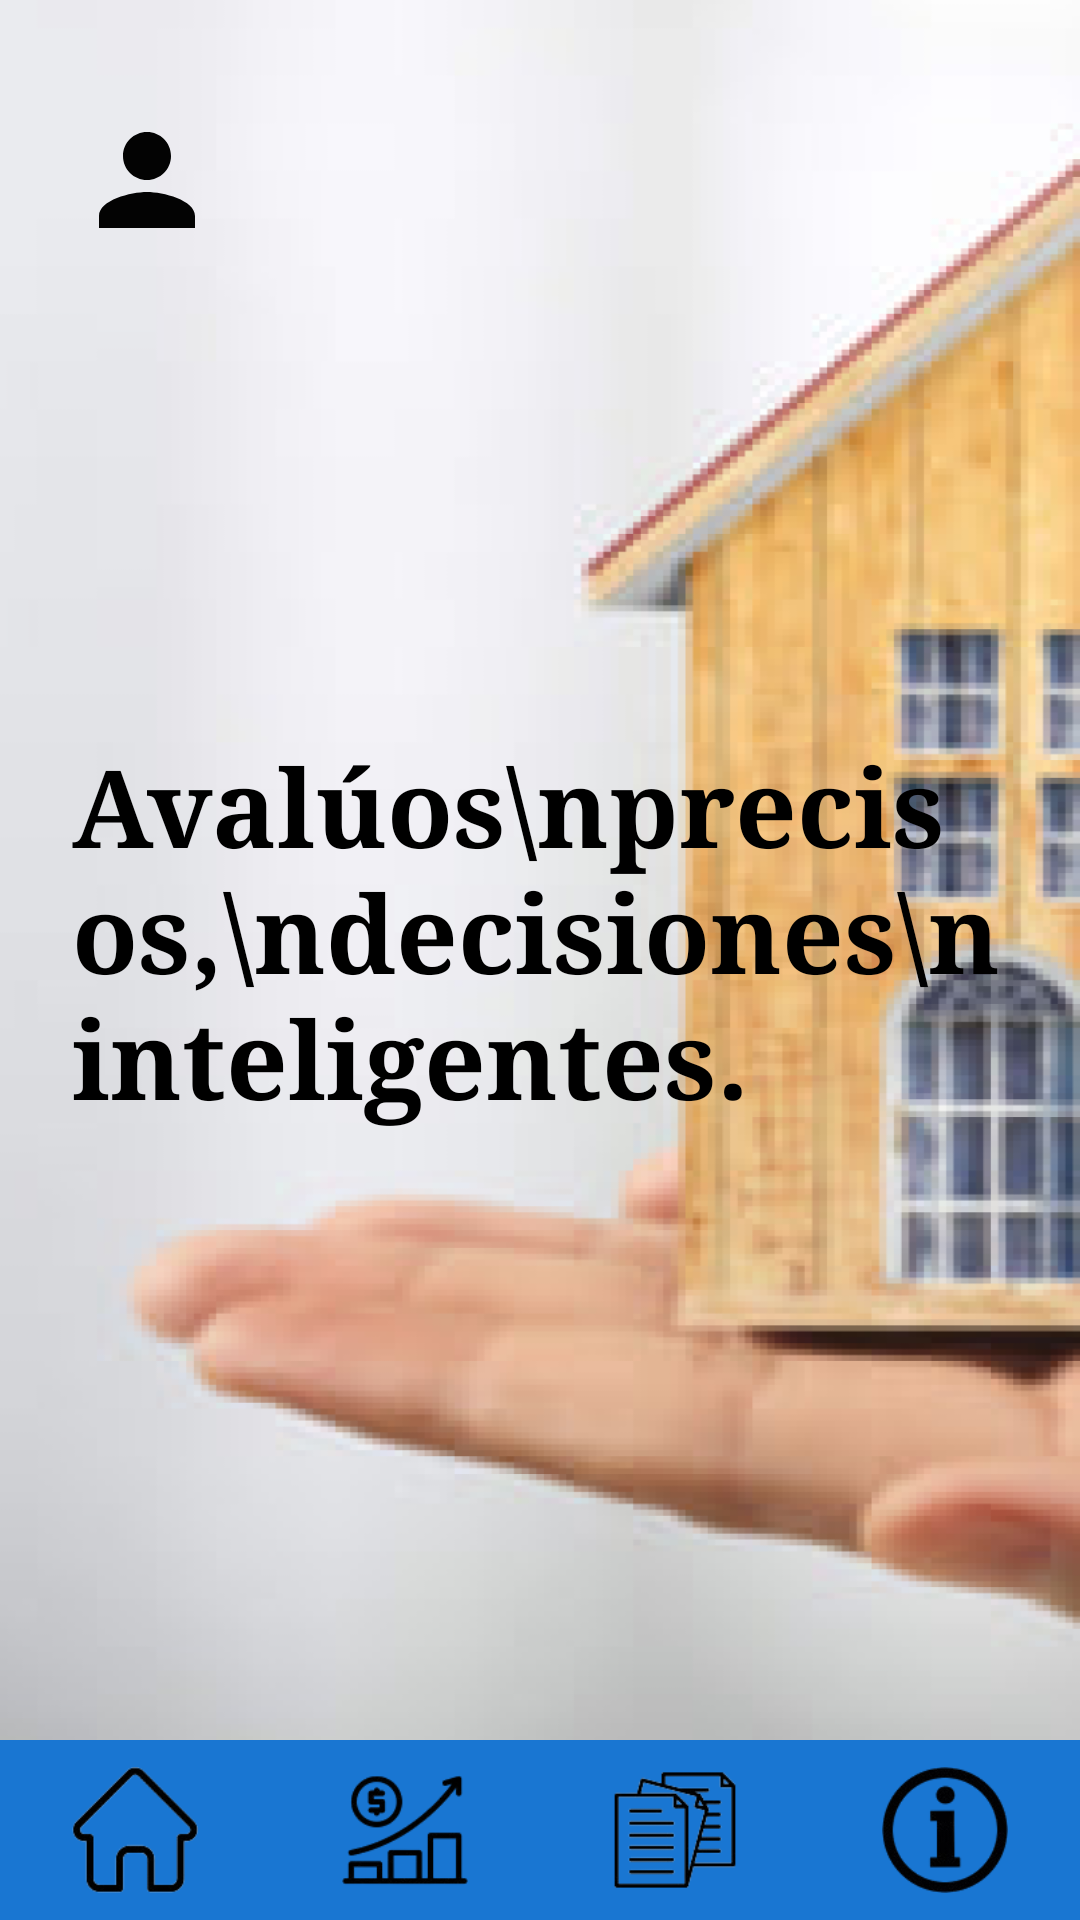

Named icons in this screenshot (1080px x 1920px) and their centers, [x,y]:
files: [675,1830]
home: [135,1830]
info: [945,1830]
pricing: [405,1830]
profile: [147,180]
